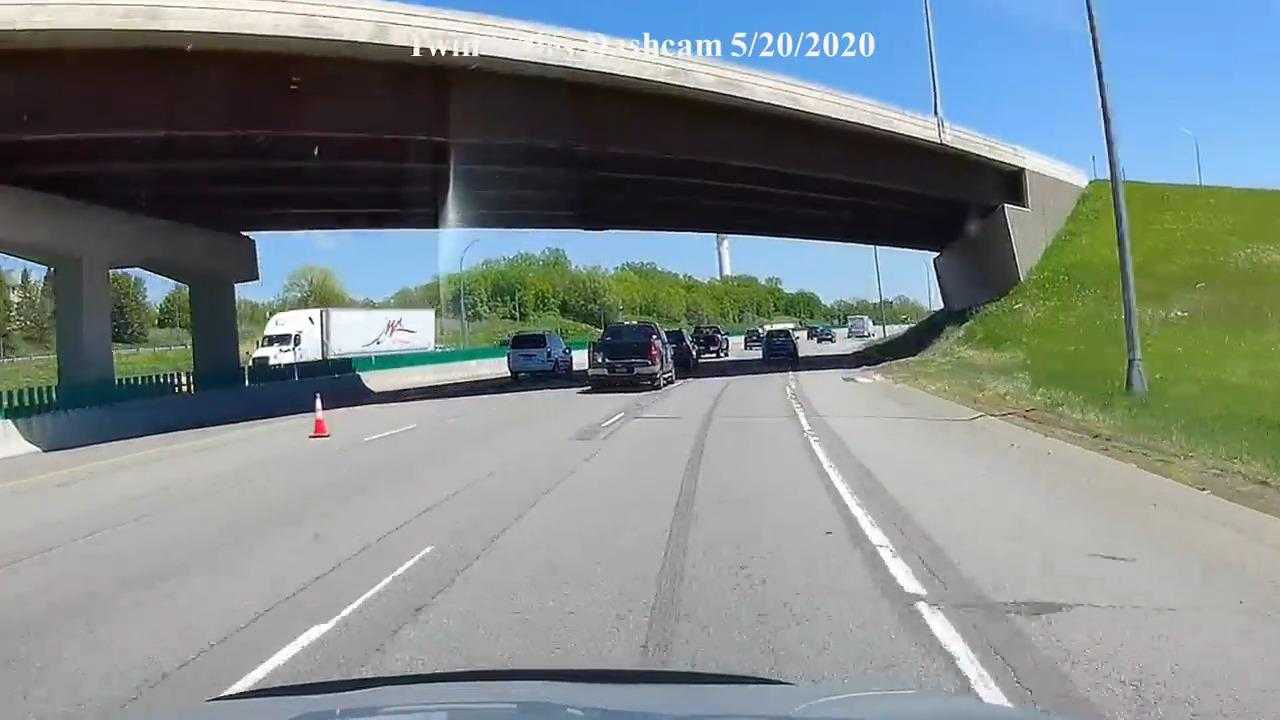car: (199, 665, 1075, 720), (507, 330, 574, 382)
traffic cone: (307, 391, 331, 440)
